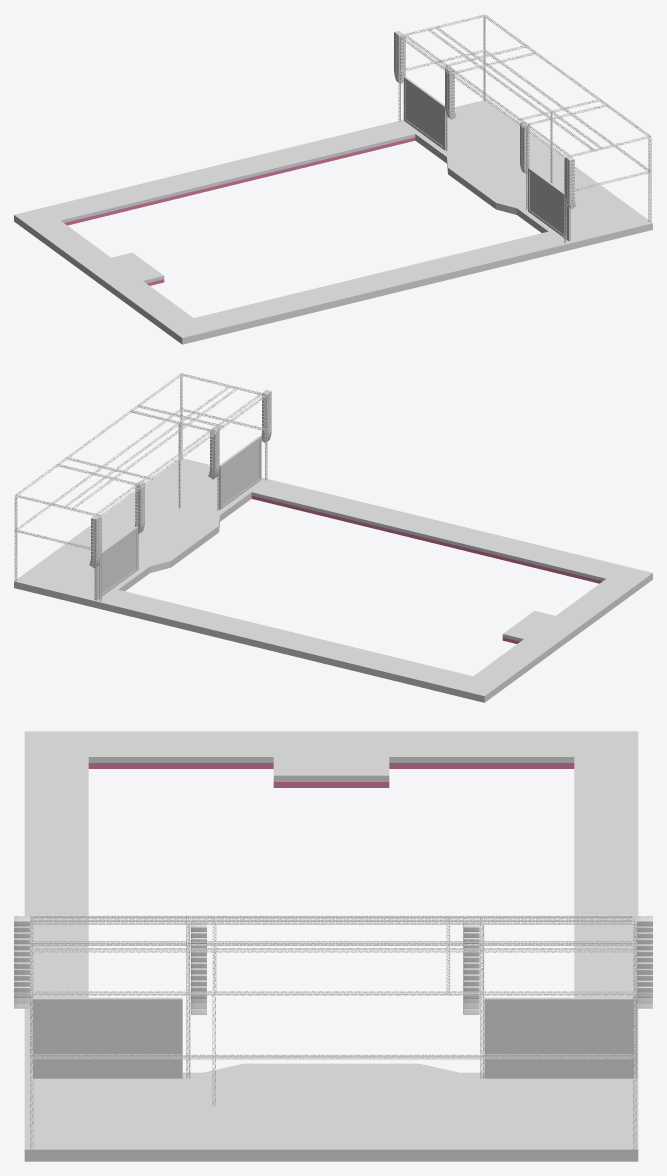
The model's file is NISSAN_ver0.1.16.fbx.
The picture shows the model from 3 angles, top to bottom: view 1: azimuth 30°, elevation 25°; view 2: azimuth 150°, elevation 25°; view 3: azimuth 270°, elevation 25°; orthographic projection. The views are drawn at different scales.
Visible parts, largest first — view 1: Cube.008, Butai, SubDisplay.001, SubDisplay.004, Cylinder.019, Cylinder.007, Cylinder.008, Cylinder.006, Cylinder.005, Cylinder.011, SubDisplay.006, SubDisplay.002 (+3 smaller); view 2: Cube.008, Butai, SubDisplay.004, SubDisplay.001, Cylinder.019, Cylinder.007, Cylinder.008, Cylinder.005, Cylinder.006, SubDisplay.002, Cylinder.011, SubDisplay.006 (+3 smaller); view 3: Butai, Cube.008, SubDisplay.002, SubDisplay.006, Cylinder.011, Cylinder.019, Cylinder.005, Cylinder.006, Cylinder.008, Cylinder.007, Cube.021, Cube.017 (+2 smaller).
Part boxes in pixels (<box>): Cube.008: <box>14,121,566,344</box>; Butai: <box>398,100,652,250</box>; SubDisplay.001: <box>406,81,443,146</box>; SubDisplay.004: <box>530,172,567,236</box>; Cylinder.019: <box>399,36,566,158</box>; Cylinder.007: <box>436,27,602,149</box>; Cylinder.008: <box>484,15,650,137</box>; Cylinder.006: <box>428,29,594,151</box>; Cylinder.005: <box>404,35,570,156</box>; Cylinder.011: <box>484,50,650,170</box>; SubDisplay.006: <box>404,77,446,150</box>; SubDisplay.002: <box>528,167,570,241</box>; Cube.008: <box>100,479,652,702</box>; Butai: <box>14,458,268,608</box>; SubDisplay.004: <box>222,440,259,505</box>; SubDisplay.001: <box>98,531,135,596</box>; Cylinder.019: <box>101,394,267,516</box>; Cylinder.007: <box>64,385,230,506</box>; Cylinder.008: <box>16,373,182,495</box>; Cylinder.005: <box>96,393,262,514</box>; Cylinder.006: <box>72,387,238,508</box>; SubDisplay.002: <box>218,436,261,509</box>; Cylinder.011: <box>16,408,182,530</box>; SubDisplay.006: <box>95,526,137,599</box>; Butai: <box>24,1063,638,1161</box>; Cube.008: <box>24,731,638,1072</box>; SubDisplay.002: <box>33,997,182,1078</box>; SubDisplay.006: <box>484,997,633,1078</box>; Cylinder.011: <box>30,1054,632,1059</box>; Cylinder.019: <box>30,915,632,919</box>; Cylinder.005: <box>30,920,632,924</box>; Cylinder.006: <box>30,941,632,945</box>; Cylinder.008: <box>30,991,632,995</box>; Cylinder.007: <box>30,948,632,952</box>; Cube.021: <box>463,922,479,1014</box>; Cube.017: <box>637,916,652,1008</box>.
Bounding box in the file's own units: 12905 × 2433 × 8328.
